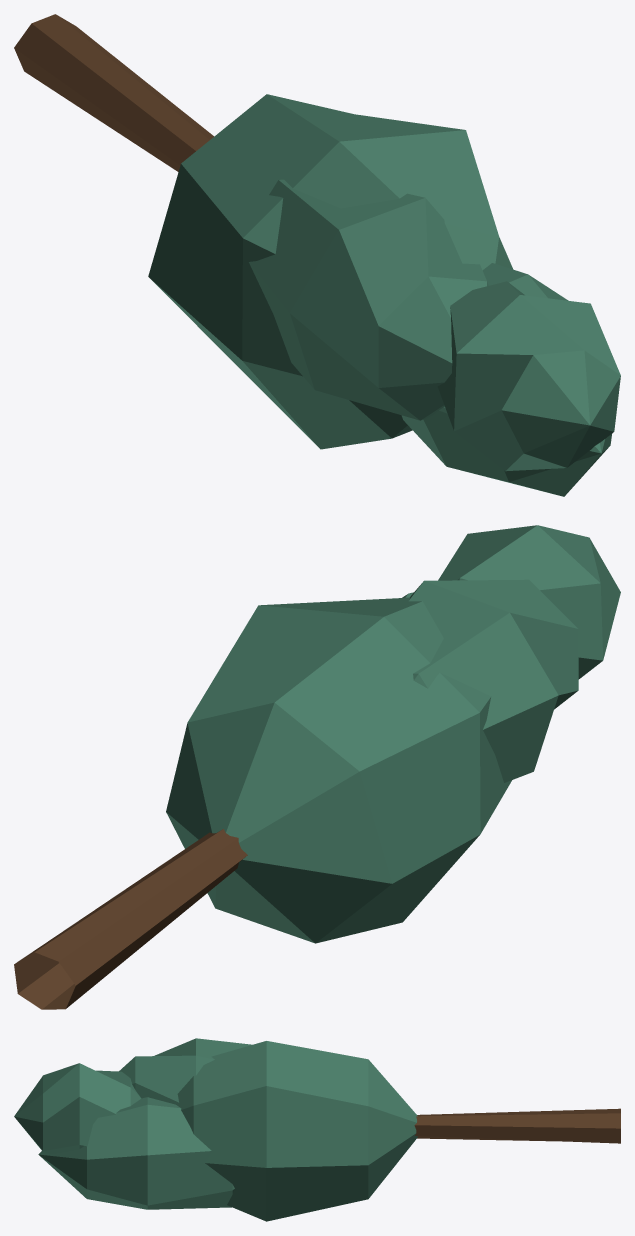
Rendered from growth_1.glb.
The picture shows the model from 3 angles, top to bottom: view 1: azimuth 30°, elevation 25°; view 2: azimuth 150°, elevation 25°; view 3: azimuth 270°, elevation 25°; orthographic projection. The views are drawn at different scales.
Visible parts, largest first — view 1: tree_11_growth_1; view 2: tree_11_growth_1; view 3: tree_11_growth_1.
Boxes of the visible parts, x1,y1,x2,y2 form: tree_11_growth_1: (14,14,620,496); tree_11_growth_1: (14,525,620,1009); tree_11_growth_1: (14,1038,620,1221).
Size of the model in its own units: 6.49 by 6.8 by 22.12.
